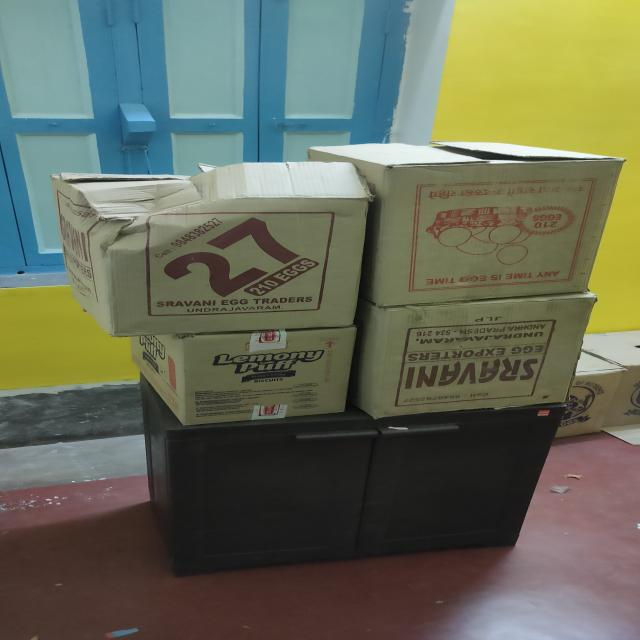squeeze: (64, 161, 293, 280)
tear: (365, 103, 605, 195)
